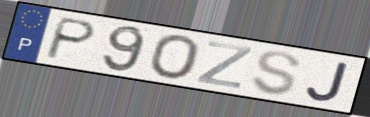9: (100, 25, 149, 74)
J: (305, 60, 352, 103)
O: (146, 34, 202, 81)
P: (41, 15, 99, 61)
S: (249, 50, 303, 97)
Z: (194, 39, 256, 91)
